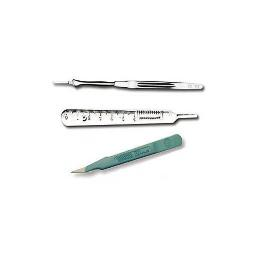scalpel: (71, 134, 187, 174)
